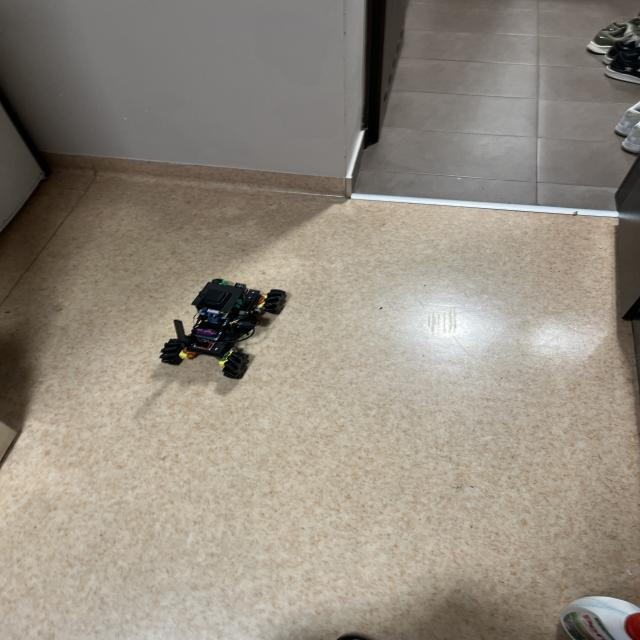robot: (160, 279, 286, 379)
